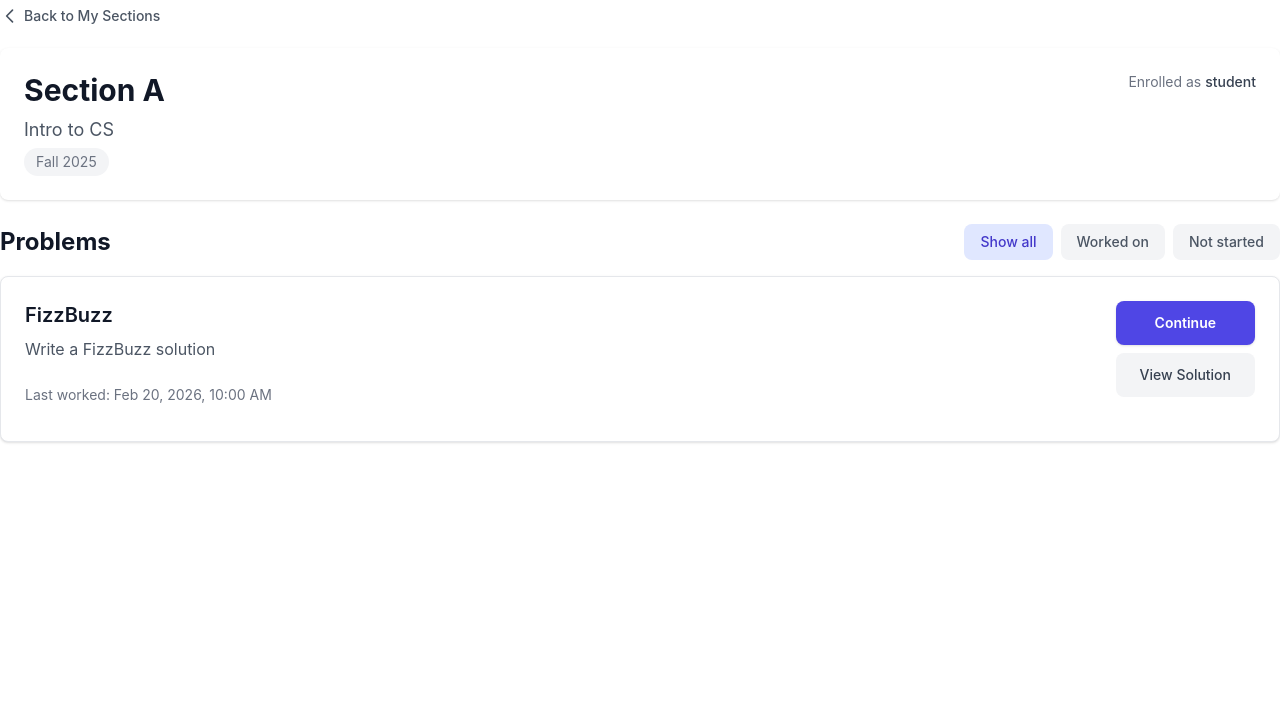
Test: StudentSectionView › View Solution modal › modal can be closed with a close button
Click the button "View Solution". click: coordinates (1185, 375)
box: left=1116, top=353, right=1255, bottom=397
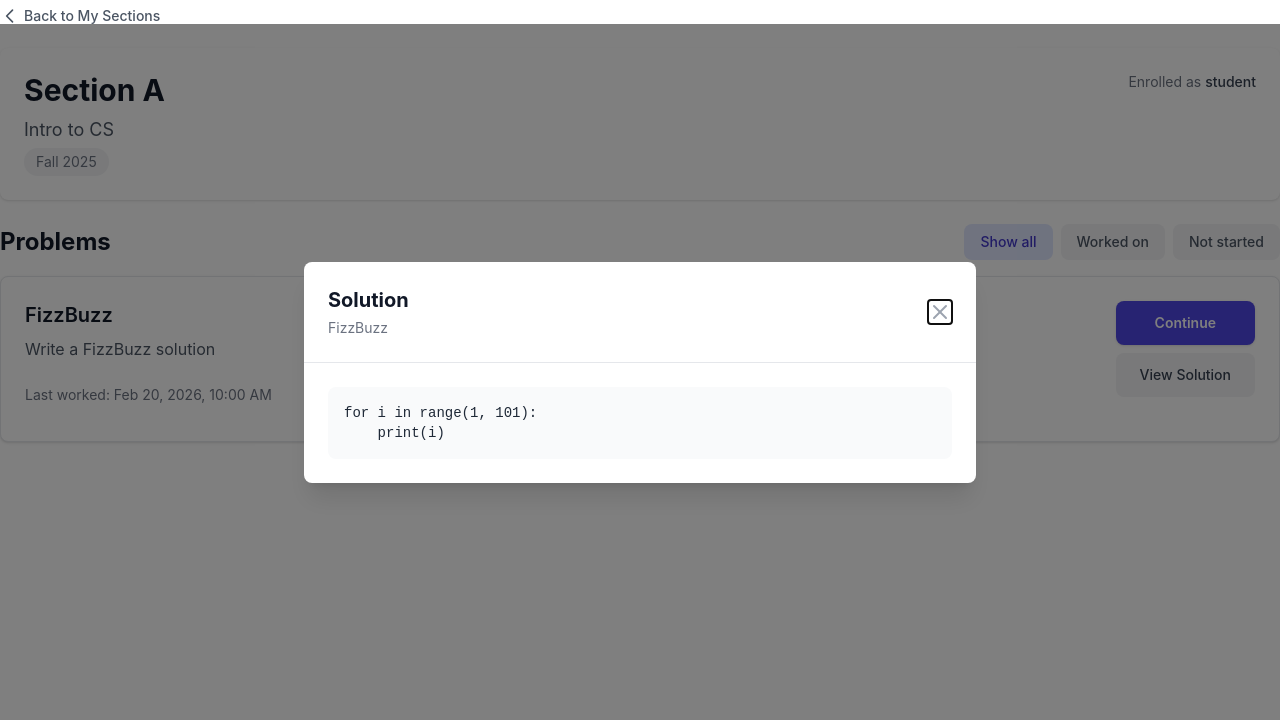
Expected: the dialog is shown
Note: Click the close button
Click the button named "close". click: coordinates (940, 312)
box: left=928, top=300, right=952, bottom=324
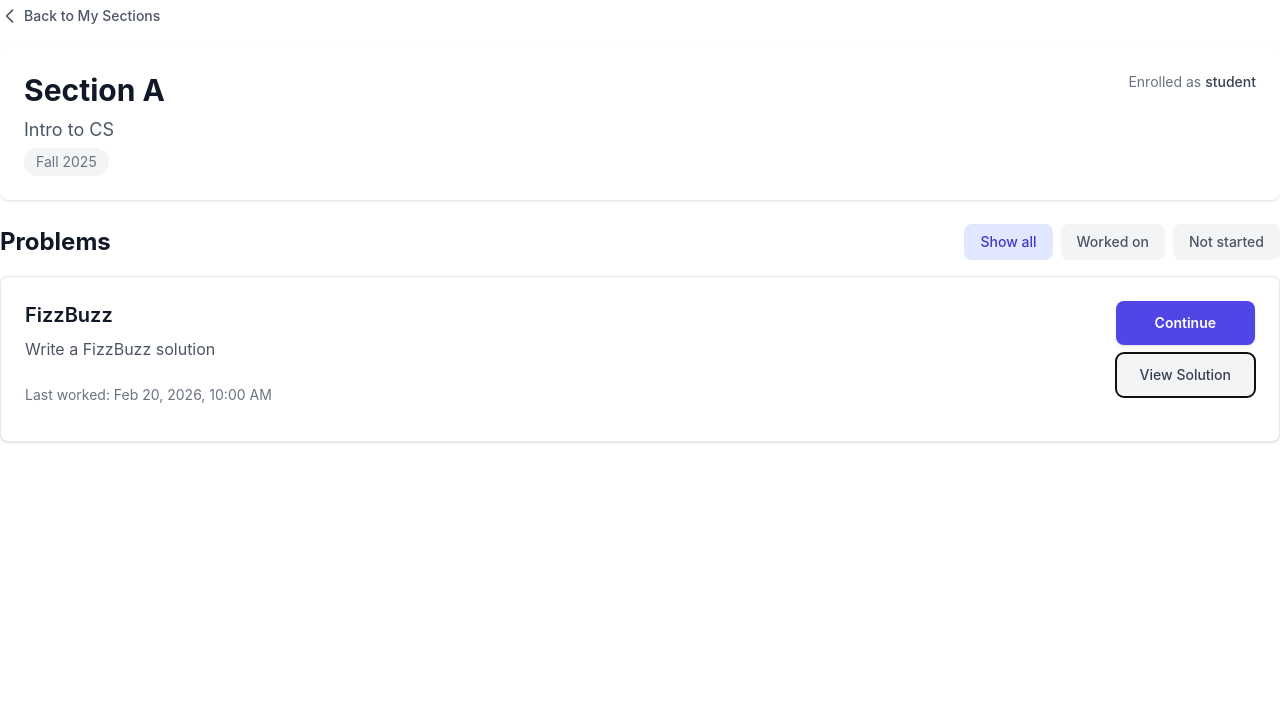
Expected: the dialog is gone
